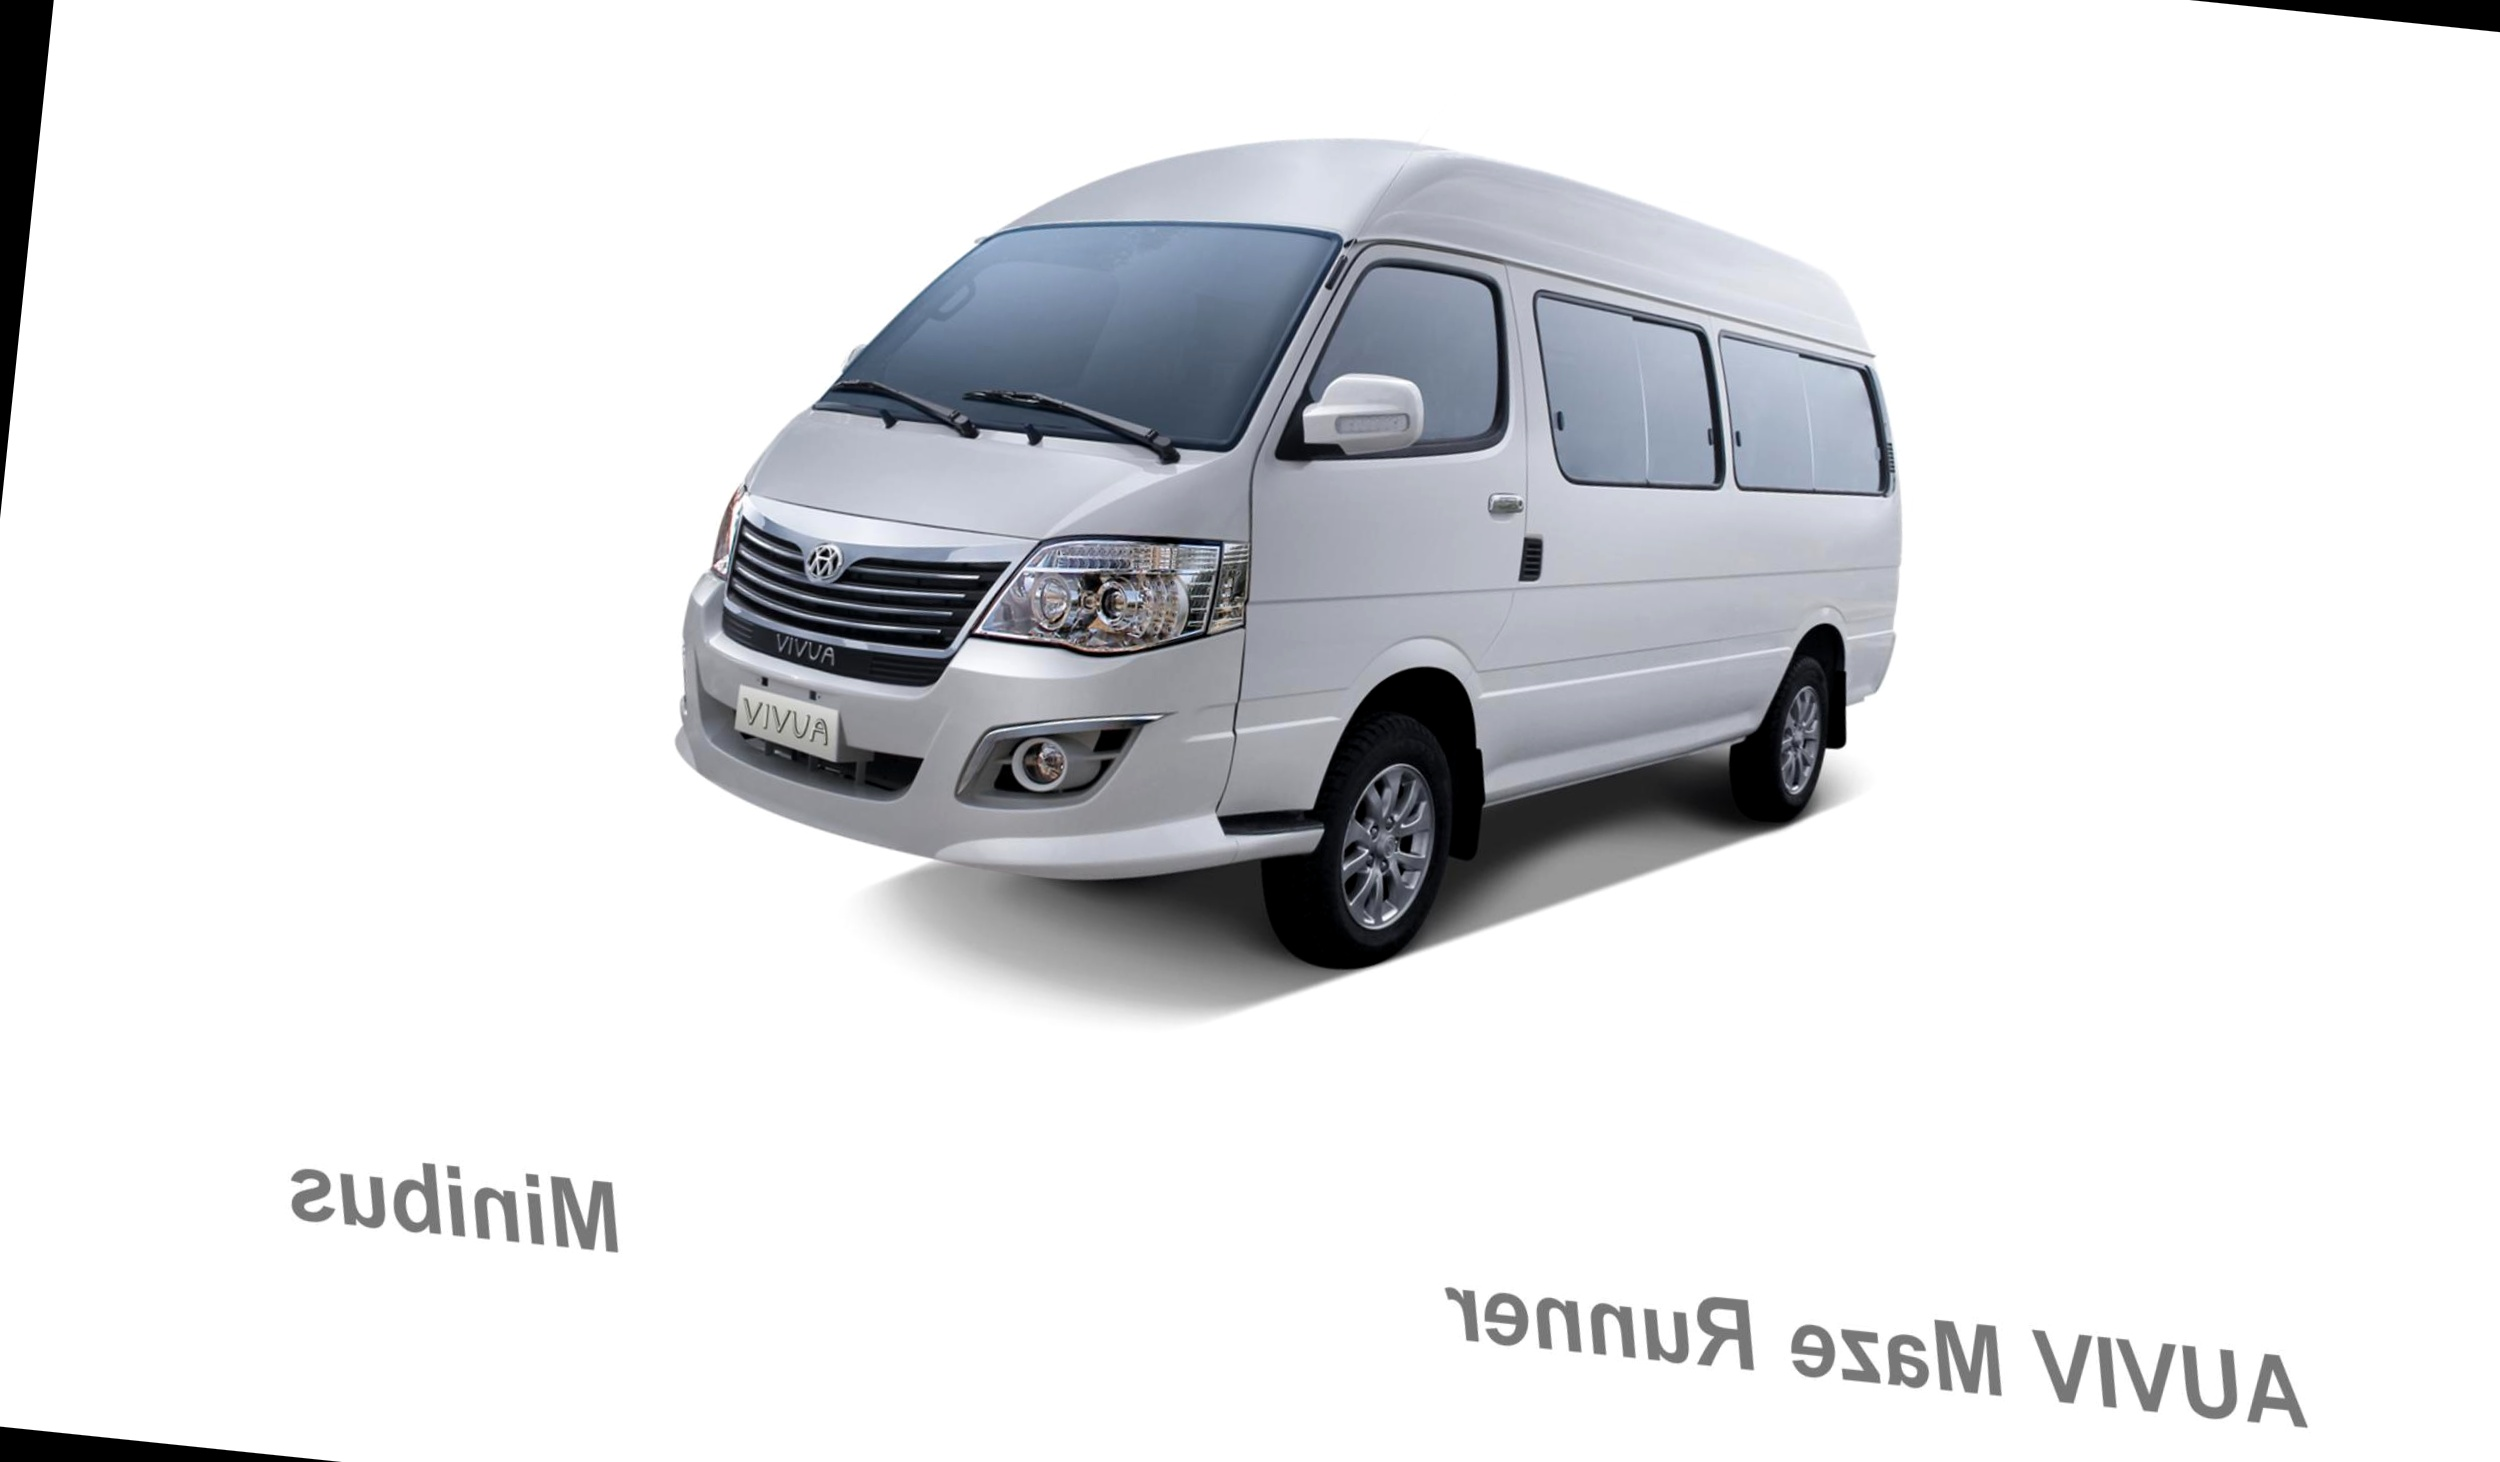van: (611, 0, 1975, 1065)
